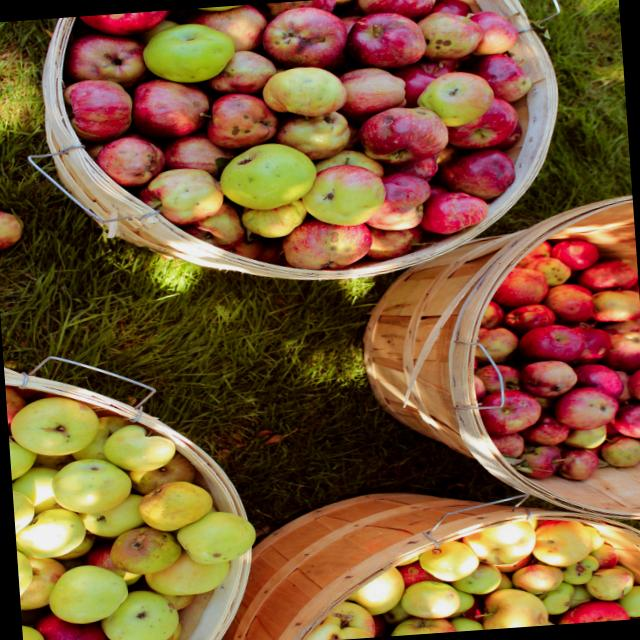alpple: (7, 393, 97, 459), (301, 162, 383, 234), (360, 102, 450, 164), (262, 4, 344, 70), (132, 76, 216, 139), (62, 73, 132, 143), (108, 528, 186, 576), (514, 319, 582, 365), (480, 389, 540, 437), (558, 386, 618, 433)
